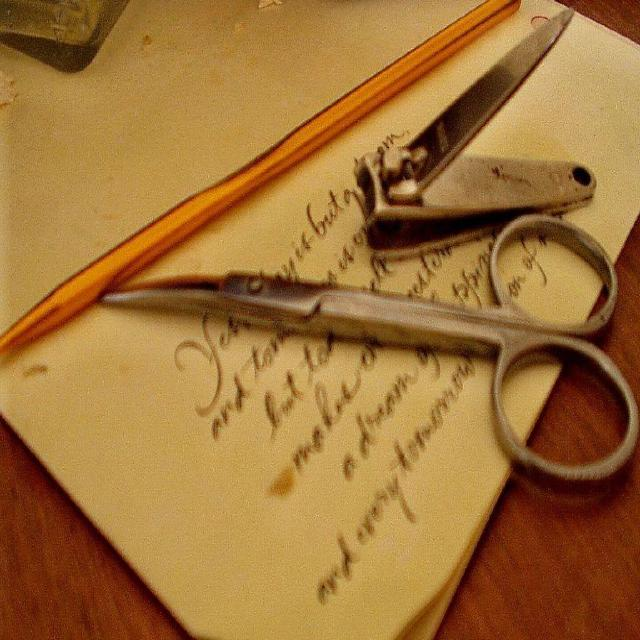scissor: (98, 210, 640, 503)
